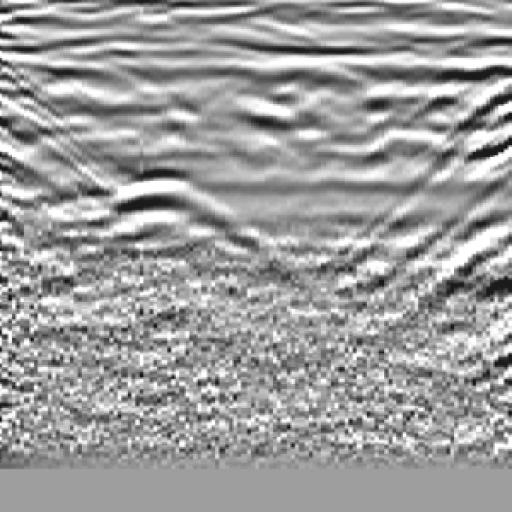metalic: (78, 33, 257, 287)
nonmetalic: (399, 44, 512, 290)
